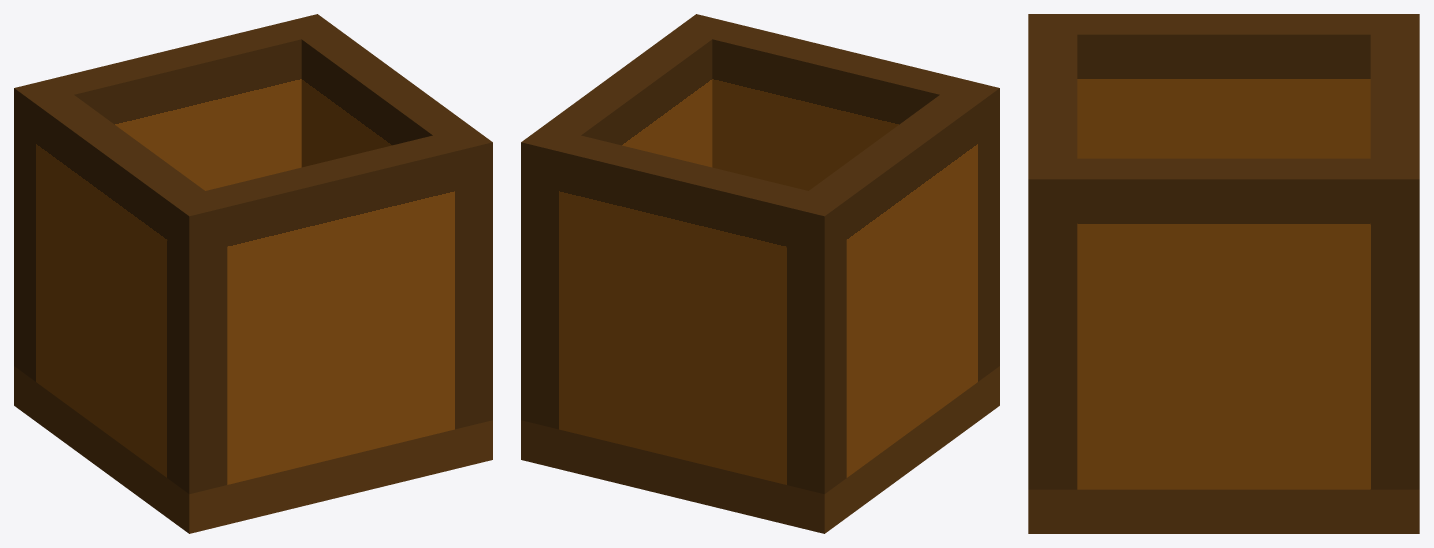
File: basket.gltf
The picture shows the model from 3 angles, left to right: view 1: azimuth 30°, elevation 25°; view 2: azimuth 150°, elevation 25°; view 3: azimuth 270°, elevation 25°; orthographic projection. The views are drawn at different scales.
Parts seen in each view (by area): view 1: side_south, side_west, side_north, bottom, side_east; view 2: side_north, side_west, side_south, side_east, bottom; view 3: side_east, side_west, side_south, bottom, side_north.
Boxes of the visible parts, x1,y1,x2,y2 form: side_south: (206, 126, 492, 484); side_west: (36, 95, 227, 494); side_north: (14, 23, 301, 381); bottom: (14, 366, 492, 533); side_east: (280, 14, 470, 167); side_north: (559, 135, 846, 494); side_west: (809, 79, 999, 477); side_south: (675, 14, 961, 190); side_east: (521, 30, 712, 429); bottom: (521, 366, 999, 533); side_east: (1077, 158, 1419, 489); side_west: (1028, 14, 1370, 158); side_south: (1028, 34, 1077, 489); bottom: (1028, 489, 1419, 533); side_north: (1370, 14, 1419, 158).
Bounding box in the file's own units: 0.5 × 0.5 × 0.5.
2 materials, 2 textured.
